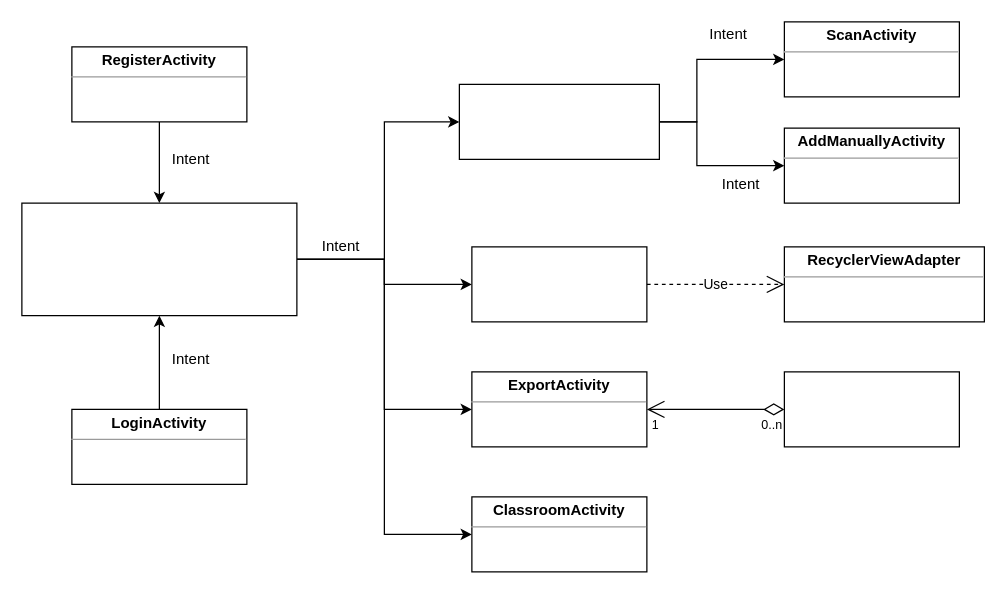
Some shapes in this 1006 by 594 pixel diagram are drawn without their labels. The shapes that lost their labels are listed below. From the top down, each one's centre as x and y in pixels, then its label:
(558,121): SubjectInfoActivity
(159,259): MenuActivity
(559,284): CatalogActivity
(871,409): SendRequest
